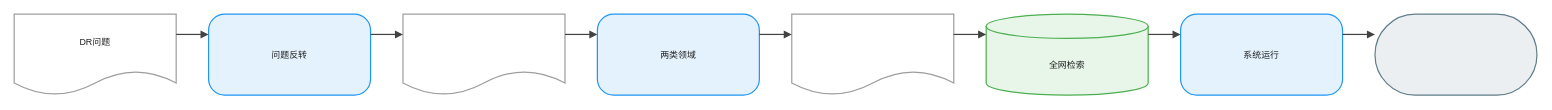
The diagram is 1552 pixels wide and 110 high, and some of its shapes have lost their labels. Each missing label, with the centre of its shape:
"100任务" goes at (872,54).
"标准论点" goes at (483,54).
"论点F1" goes at (1455,54).
